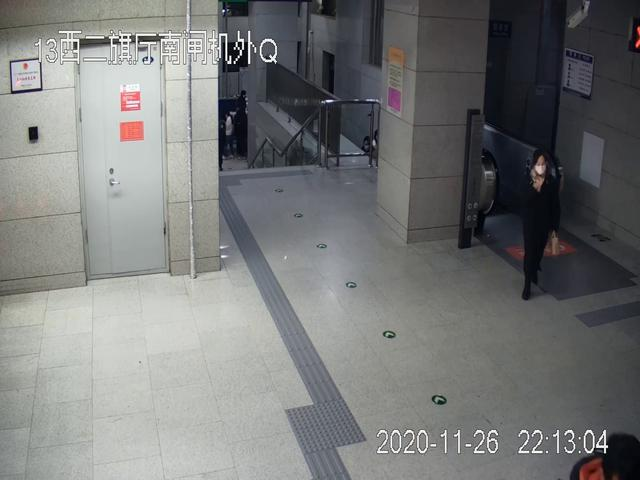person: (520, 150, 558, 301)
